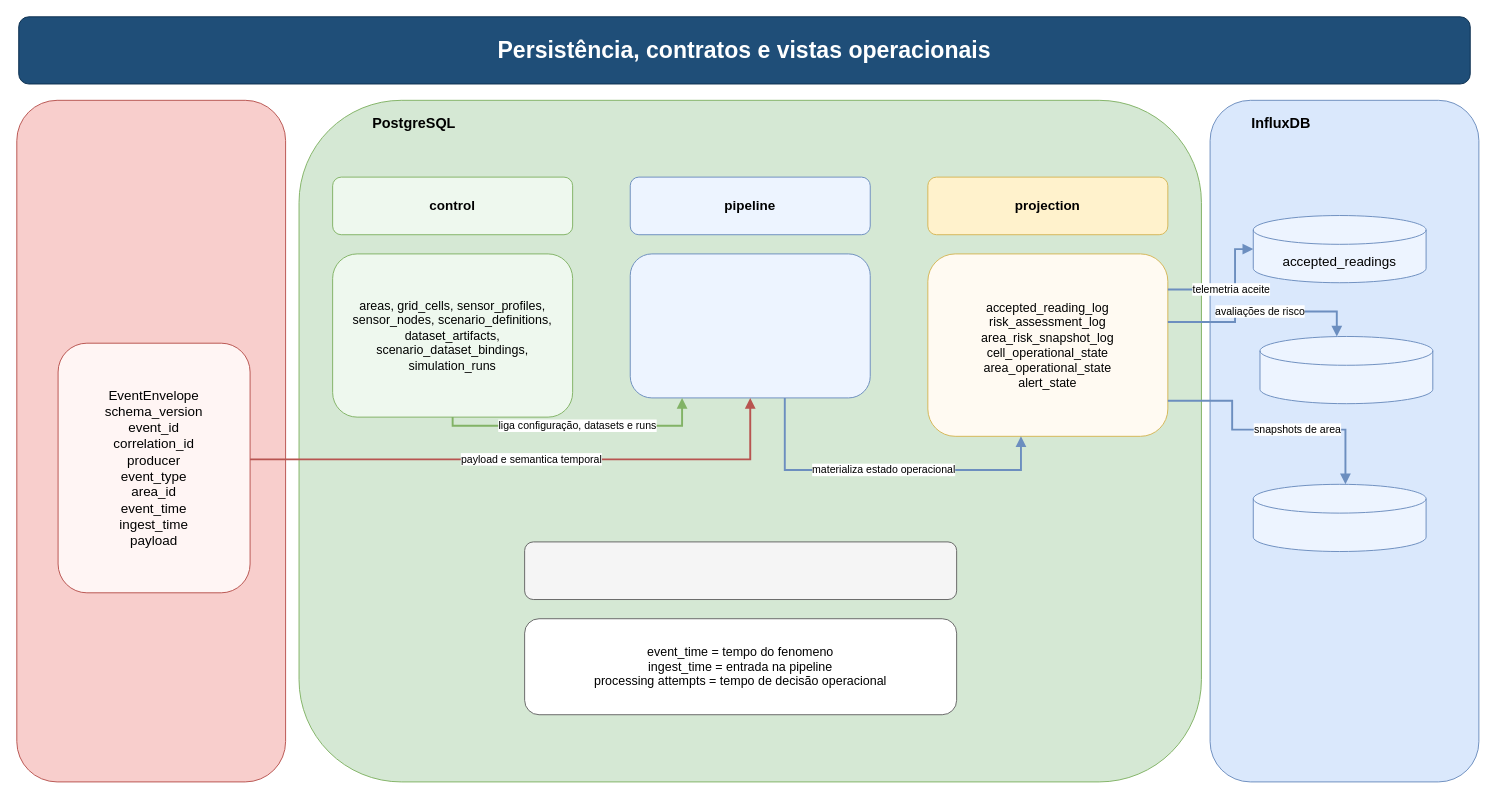
Some shapes in this 1496 by 799 pixel diagram are drawn without their labels. The shapes that lost their labels are listed below. From the top down, each one's box as (x1, y1, x2, y2) in pixels, then its label:
(629, 253, 870, 398): event_inbox processing_attempts rejected_events quarantined_events
(1259, 336, 1433, 404): risk_assessments
(16, 99, 286, 782): Contrato comum
(1252, 483, 1426, 552): area_risk_snapshots
(524, 541, 957, 600): Semantica temporal
